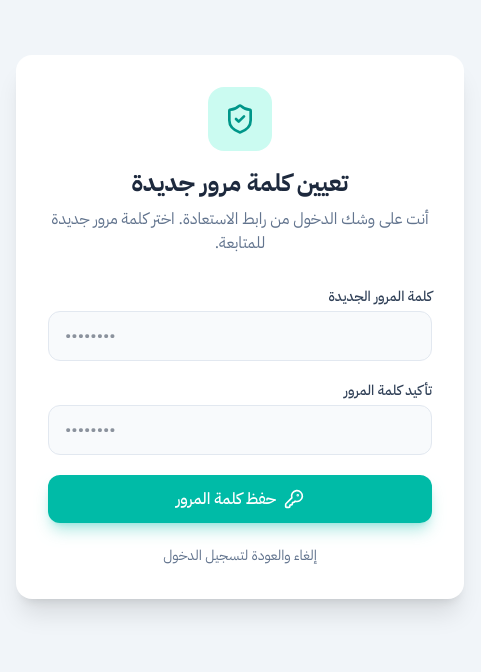
it: UpdatePasswordView › refuses a mismatch before any round trip
Type "newsecret" into the password field labelled "كلمة المرور الجديدة" at (240, 336), box [48,311,432,361]
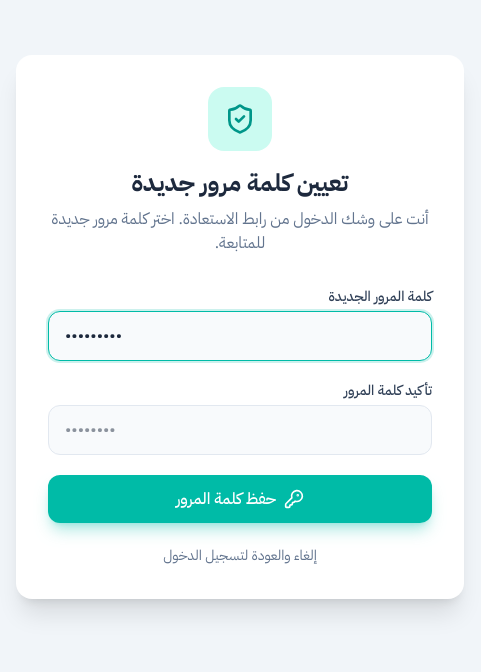
Type "different" into the password field labelled "تأكيد كلمة المرور" at (240, 430), box [48,405,432,455]
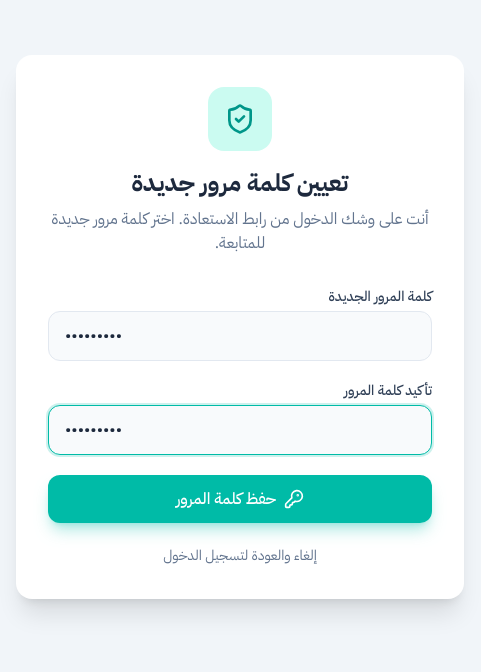
Click the button "حفظ كلمة المرور" at (240, 499), box [48,475,432,523]
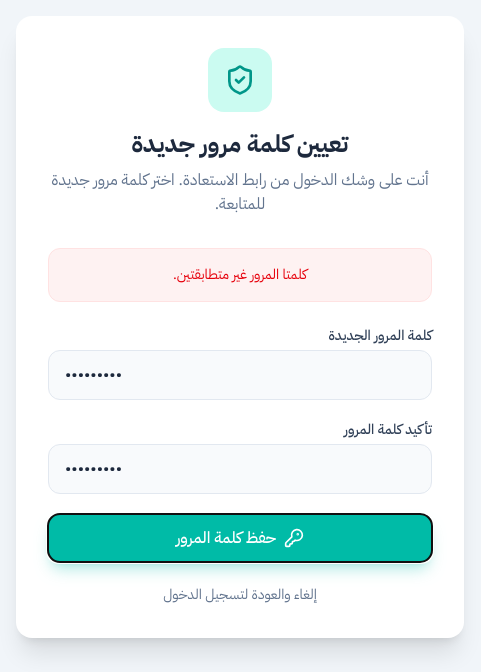
Expected: the message shows "غير متطابقتين", [173,264,307,285]
